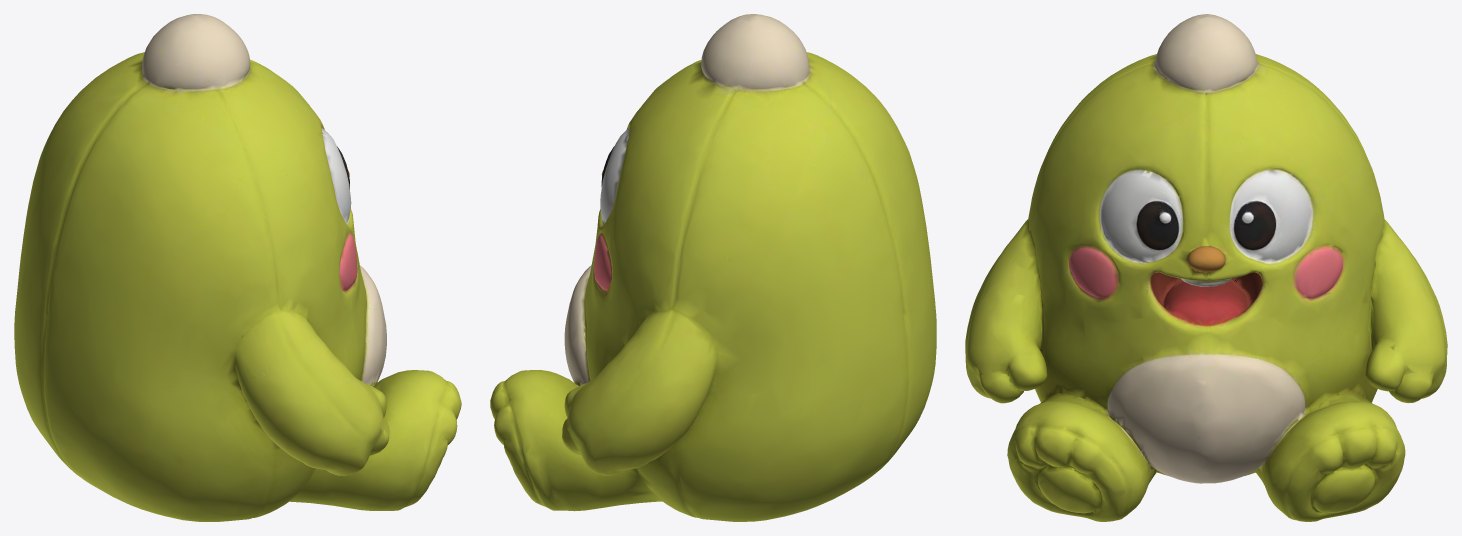
Rendered from olly-plush.glb.
The picture shows the model from 3 angles, left to right: view 1: azimuth 30°, elevation 25°; view 2: azimuth 150°, elevation 25°; view 3: azimuth 270°, elevation 25°; orthographic projection. The views are drawn at different scales.
Parts seen in each view (by area): view 1: tripo_node_88bb7f30-430b-4504-94c1-853ff36c966c; view 2: tripo_node_88bb7f30-430b-4504-94c1-853ff36c966c; view 3: tripo_node_88bb7f30-430b-4504-94c1-853ff36c966c.
Boxes of the visible parts, bbox=[...] form: tripo_node_88bb7f30-430b-4504-94c1-853ff36c966c: bbox=[14, 14, 461, 521]; tripo_node_88bb7f30-430b-4504-94c1-853ff36c966c: bbox=[490, 14, 936, 521]; tripo_node_88bb7f30-430b-4504-94c1-853ff36c966c: bbox=[965, 14, 1447, 521].
Bounding box in the file's own units: 0.7767 × 1 × 0.9945.
1 material, 1 textured.
